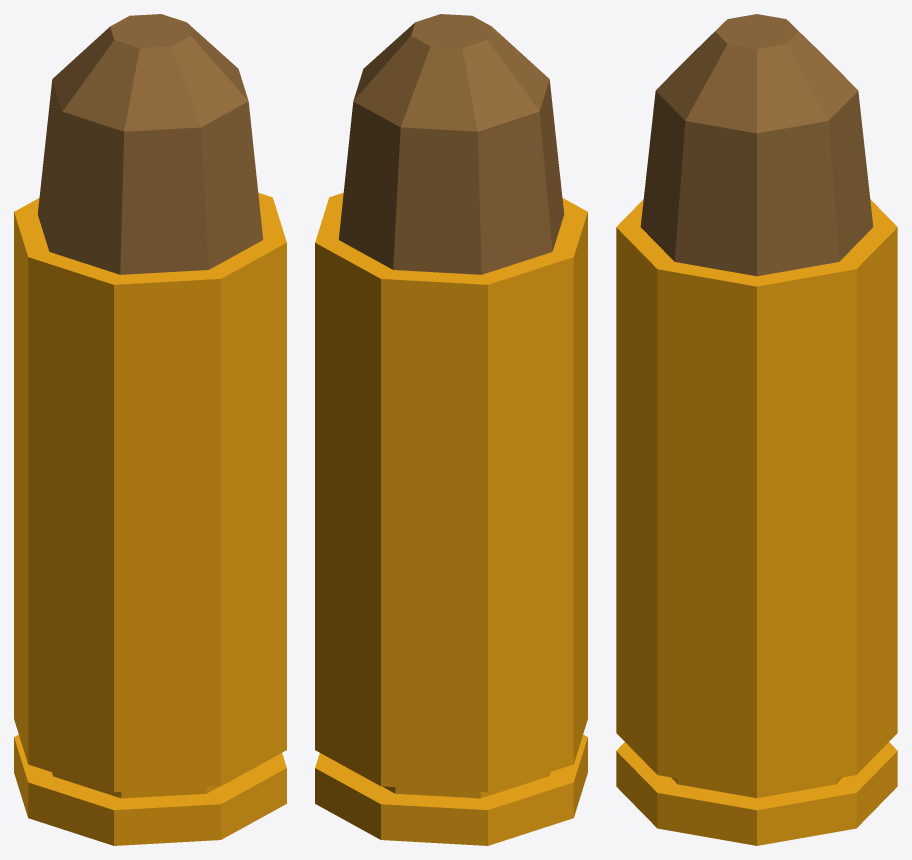
The model's file is LightAmmo.fbx.
3 views of the same model, side by side, from view 1: azimuth 30°, elevation 25°; view 2: azimuth 150°, elevation 25°; view 3: azimuth 270°, elevation 25° (orthographic).
Visible parts, largest first — view 1: Light Ammo; view 2: Light Ammo; view 3: Light Ammo.
Part boxes in pixels (bbox=[...]): Light Ammo: bbox=[14, 14, 286, 845]; Light Ammo: bbox=[315, 14, 587, 845]; Light Ammo: bbox=[616, 14, 897, 845].
Bounding box in the file's own units: 6.15 × 18.18 × 6.15.
